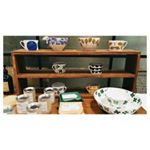cups: (43, 35, 70, 51), (76, 36, 101, 51), (106, 39, 130, 51), (18, 38, 40, 51), (49, 60, 69, 74)
